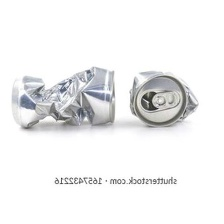can: (8, 64, 121, 131), (127, 66, 200, 133)
